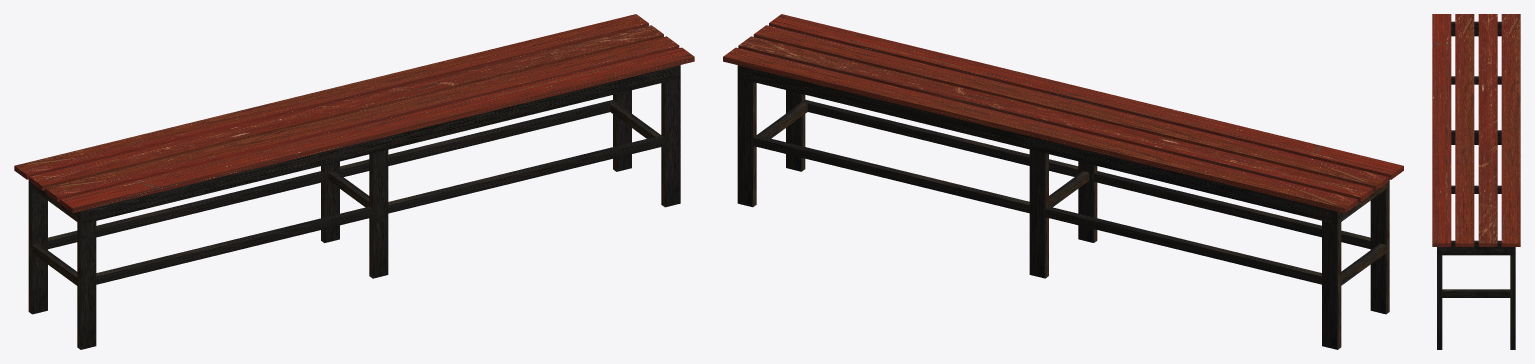
The model's file is Banca.obj.
The picture shows the model from 3 angles, left to right: view 1: azimuth 30°, elevation 25°; view 2: azimuth 150°, elevation 25°; view 3: azimuth 270°, elevation 25°; orthographic projection. The views are drawn at different scales.
Parts seen in each view (by area): view 1: banca; view 2: banca; view 3: banca.
Boxes of the visible parts, x1,y1,x2,y2 form: banca: [14, 14, 694, 349]; banca: [723, 14, 1403, 349]; banca: [1432, 14, 1520, 349].
Bounding box in the file's own units: 2 × 0.45 × 0.325.
Materials: 2 (2 with a texture image).
